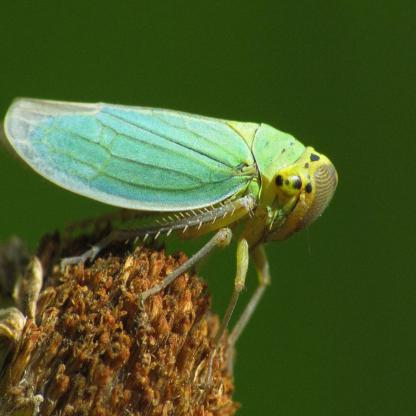Green-Leafhopper: (7, 91, 337, 378)
